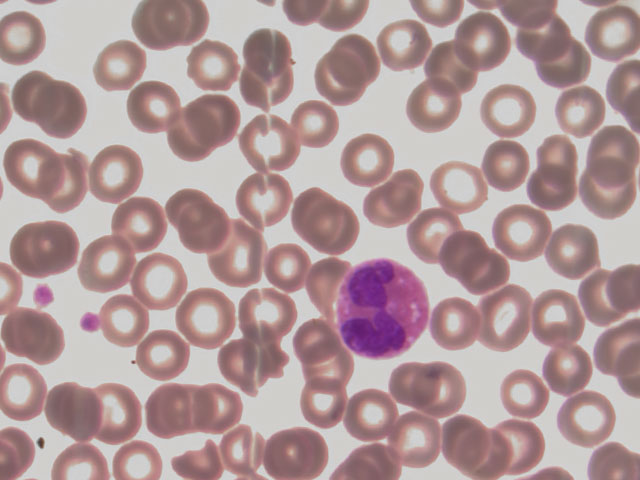Platelets: (30, 280, 60, 310), (76, 308, 105, 337)
RBC: (474, 284, 538, 349), (11, 217, 78, 278), (123, 249, 190, 310), (363, 169, 424, 231), (295, 189, 358, 248), (263, 422, 326, 480), (86, 143, 145, 202), (186, 92, 245, 151), (127, 78, 186, 137), (92, 37, 151, 96), (36, 78, 95, 137), (33, 149, 90, 209), (112, 196, 169, 256), (75, 233, 132, 293), (175, 287, 233, 345), (233, 286, 291, 344), (211, 223, 269, 281), (172, 191, 230, 249), (233, 169, 291, 227), (241, 112, 299, 170), (238, 50, 296, 108), (186, 36, 244, 94), (492, 203, 552, 259), (3, 308, 64, 362), (406, 80, 463, 136), (314, 51, 372, 106), (337, 131, 395, 186), (428, 297, 482, 356), (417, 358, 471, 417), (378, 353, 432, 412), (338, 384, 392, 443), (296, 379, 350, 438), (301, 334, 355, 393), (88, 387, 142, 446), (44, 381, 98, 440), (145, 380, 197, 441), (191, 377, 243, 438), (1, 360, 53, 419), (376, 18, 430, 69), (424, 41, 478, 92), (456, 14, 510, 65), (513, 12, 567, 63), (539, 37, 593, 88), (483, 86, 537, 137), (479, 136, 533, 187), (433, 161, 487, 212), (406, 207, 460, 258), (435, 226, 489, 277), (457, 247, 511, 298), (557, 87, 609, 138), (588, 127, 640, 178), (580, 167, 632, 218), (550, 222, 602, 273), (533, 289, 585, 340), (392, 417, 443, 468), (442, 415, 493, 466), (589, 8, 639, 60), (100, 296, 151, 346), (136, 326, 187, 376), (218, 424, 268, 475), (496, 364, 546, 415), (542, 343, 592, 394), (578, 268, 628, 319), (137, 1, 188, 51), (562, 394, 612, 445), (289, 97, 338, 148), (264, 240, 315, 289), (218, 339, 269, 388), (529, 131, 579, 173), (527, 167, 577, 207)
WBC: (337, 258, 429, 353)
